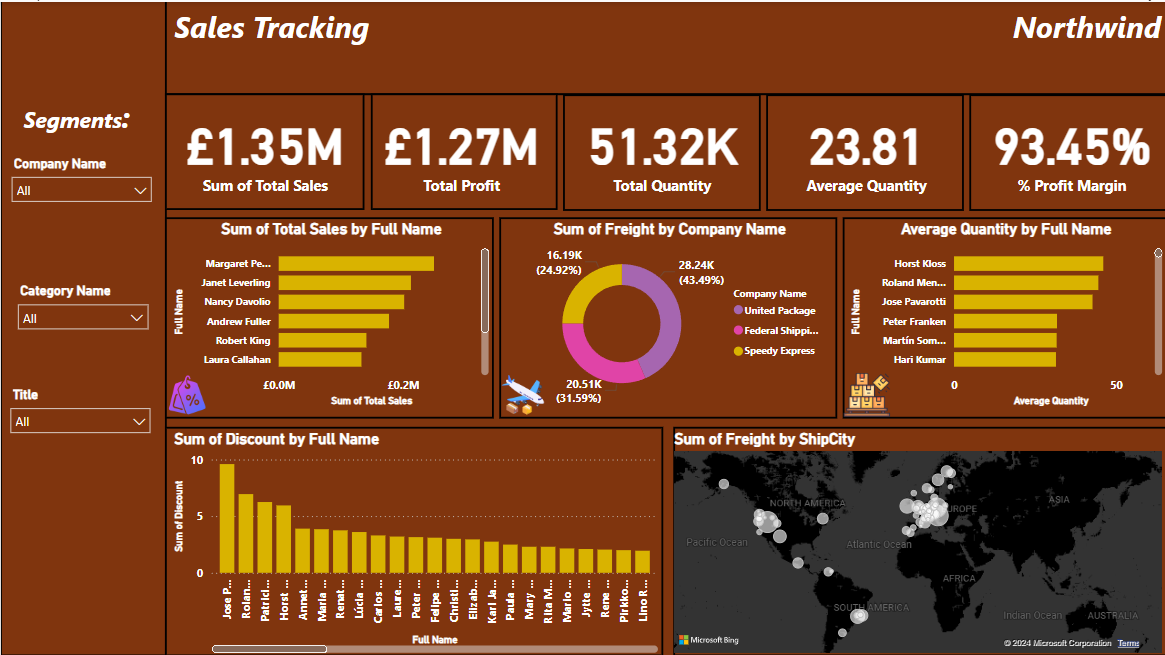

What the dashboard file says about the page in this screenshot:
{"tool":"powerbi","page":{"name":"Page 1","canvas":[1280,720],"ordinal":0},"visuals":[{"type":"card","fields":{"Values":["Orders Details.Total Sales"]},"box":[185.9,98.9,209.8,127.4],"z":0},{"type":"card","fields":{"Values":["Orders Details.Total Profit"]},"box":[406.2,98.9,199.3,127.4],"z":1000},{"type":"card","fields":{"Values":["Orders Details.Total Quantity"]},"box":[619,98.9,214.3,127.4],"z":2000},{"type":"card","fields":{"Values":["Orders Details.Average Quantity"]},"box":[843.8,98.9,212.8,127.4],"z":3000},{"type":"card","fields":{"Values":["Orders Details.% Profit Margin"]},"box":[1071.7,98.9,208.3,127.4],"z":4000},{"type":"clusteredBarChart","fields":{"Y":["Orders Details.Total Sales"],"Category":["Employees.Full Name"]},"box":[185.9,238.3,355.2,209.8],"z":5000},{"type":"donutChart","fields":{"Category":["Shippers.CompanyName"],"Y":["Orders.Freight"]},"box":[554.6,238.3,359.7,209.8],"z":6000},{"type":"clusteredBarChart","fields":{"Y":["Orders Details.Average Quantity"],"Category":["Customers.Full Name"]},"box":[927.8,238.3,352.2,209.8],"z":7000},{"type":"lineClusteredColumnComboChart","fields":{"Category":["Customers.Full Name"],"Y":["Orders Details.Discount"]},"box":[185.9,469.1,541.1,250.3],"z":8000},{"type":"map","fields":{"Category":["Orders.ShipCity"],"Size":["Orders.Freight"]},"box":[734.4,469.1,545.6,250.3],"z":9000},{"type":"textbox","box":[185.9,0,287.8,68.9],"z":10000},{"type":"textbox","box":[1088.2,0,192.1,53.5],"z":11000},{"type":"slicer","fields":{"Values":["Categories.CategoryName"]},"box":[8.2,303.3,163.3,56.3],"z":12000},{"type":"slicer","fields":{"Values":["Employees.Title"]},"box":[0,417.2,174.3,64.5],"z":13000},{"type":"slicer","fields":{"Values":["Suppliers.CompanyName"]},"box":[1.4,163.3,174.3,63.1],"z":14000},{"type":"textbox","box":[0,98.8,174.3,52.1],"z":15000}]}

Visuals, with their boxes in screenshot pixels (x1, y1, x2, y2), scaled from the page's 1280x720 canvas onto the 1165x655 screenshot:
card - Orders Details.Total Sales: bbox=(169, 90, 360, 206)
card - Orders Details.Total Profit: bbox=(370, 90, 551, 206)
card - Orders Details.Total Quantity: bbox=(563, 90, 758, 206)
card - Orders Details.Average Quantity: bbox=(768, 90, 962, 206)
card - Orders Details.% Profit Margin: bbox=(975, 90, 1164, 206)
clusteredBarChart - Orders Details.Total Sales x Employees.Full Name: bbox=(169, 217, 492, 408)
donutChart - Shippers.CompanyName x Orders.Freight: bbox=(505, 217, 832, 408)
clusteredBarChart - Orders Details.Average Quantity x Customers.Full Name: bbox=(844, 217, 1164, 408)
lineClusteredColumnComboChart - Customers.Full Name x Orders Details.Discount: bbox=(169, 427, 662, 654)
map - Orders.ShipCity x Orders.Freight: bbox=(668, 427, 1164, 654)
textbox: bbox=(169, 0, 431, 63)
textbox: bbox=(990, 0, 1164, 49)
slicer - Categories.CategoryName: bbox=(7, 276, 156, 327)
slicer - Employees.Title: bbox=(0, 380, 159, 438)
slicer - Suppliers.CompanyName: bbox=(1, 149, 160, 206)
textbox: bbox=(0, 90, 159, 137)
